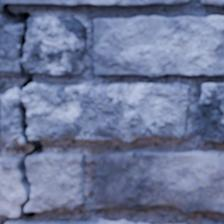brick: (94, 149, 223, 212), (93, 16, 223, 76), (199, 83, 223, 142), (1, 0, 189, 6), (7, 218, 141, 223), (202, 0, 223, 4), (202, 220, 223, 223)
broken_brick: (22, 80, 190, 144), (24, 13, 87, 75), (25, 150, 86, 212), (0, 86, 26, 147), (0, 155, 24, 218), (0, 18, 24, 77)
crack: (0, 2, 44, 221), (210, 97, 223, 116), (1, 217, 15, 223)
